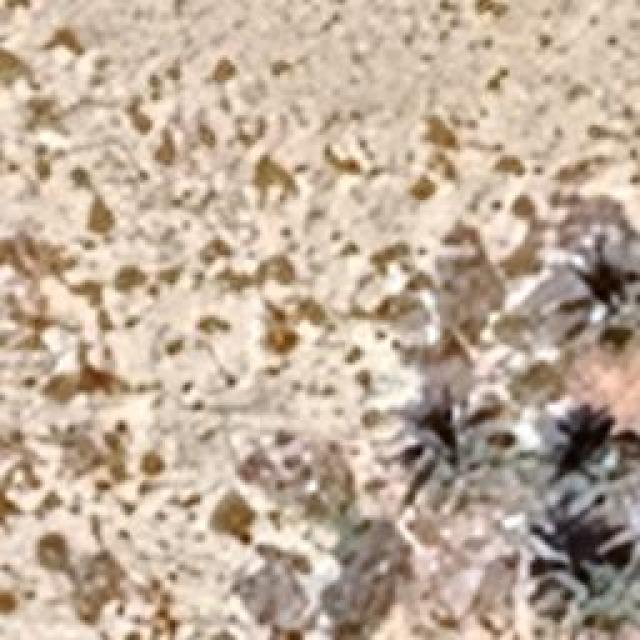PalmTree: (406, 418, 506, 516), (534, 558, 638, 638), (560, 442, 638, 522), (577, 247, 640, 342)
